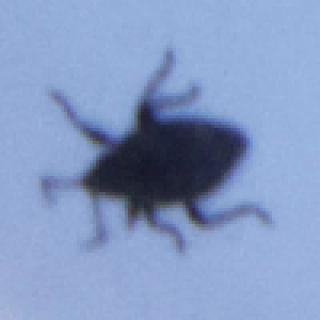bvw: (36, 46, 274, 260)
